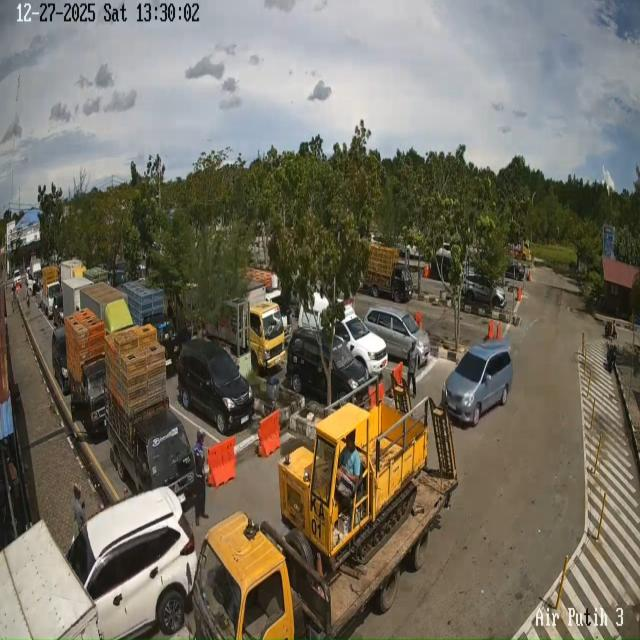Golongan IVA: (66, 487, 197, 639), (177, 338, 254, 435), (286, 327, 369, 402), (442, 340, 513, 426), (364, 306, 430, 367), (462, 272, 507, 308), (51, 326, 70, 395)
Golongan IVB: (107, 400, 194, 520), (65, 359, 119, 437), (364, 243, 413, 303)
Golongan VB: (192, 391, 458, 640)
